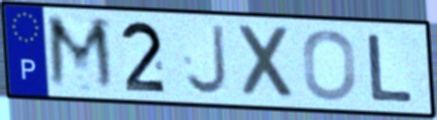2: (119, 19, 168, 94)
J: (183, 21, 231, 98)
L: (367, 31, 417, 104)
M: (44, 13, 119, 95)
O: (301, 27, 359, 103)
X: (235, 21, 298, 102)
